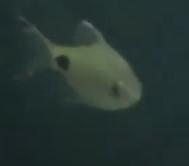Black Spotted Barb: (11, 11, 144, 115)
